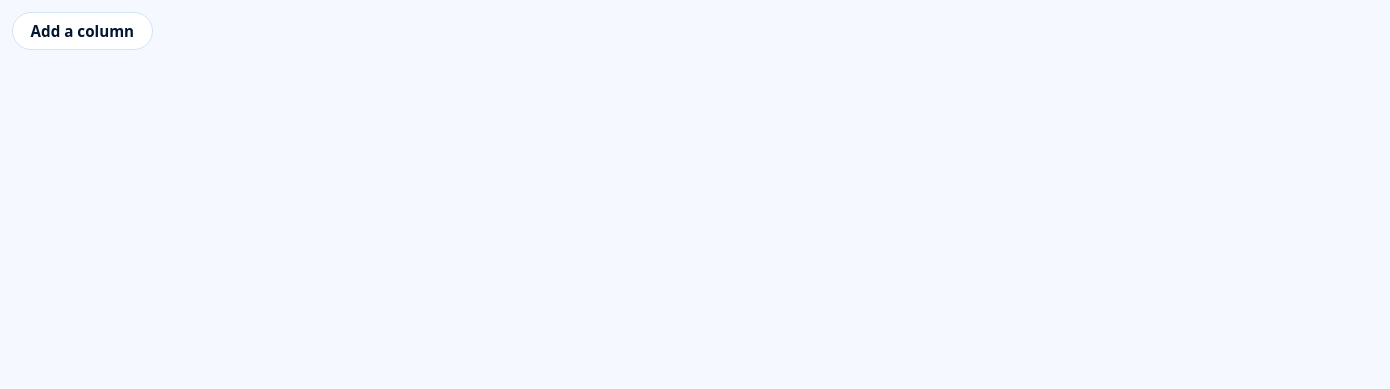
Test case: AddColumnForm › adds a grey column unless another colour is picked, then closes
The width and height of the screenshot is (1390, 389).
Click the button "Add a column". click: (82, 31)
box: [12,12,153,50]
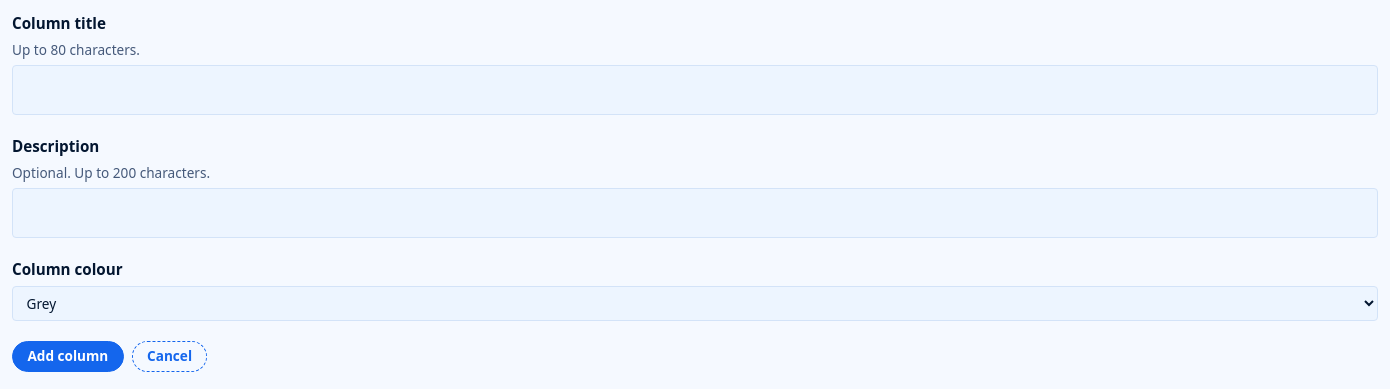
Type "Kudos" into the field labelled "Column title". click: (695, 90)
box: [12,65,1378,115]
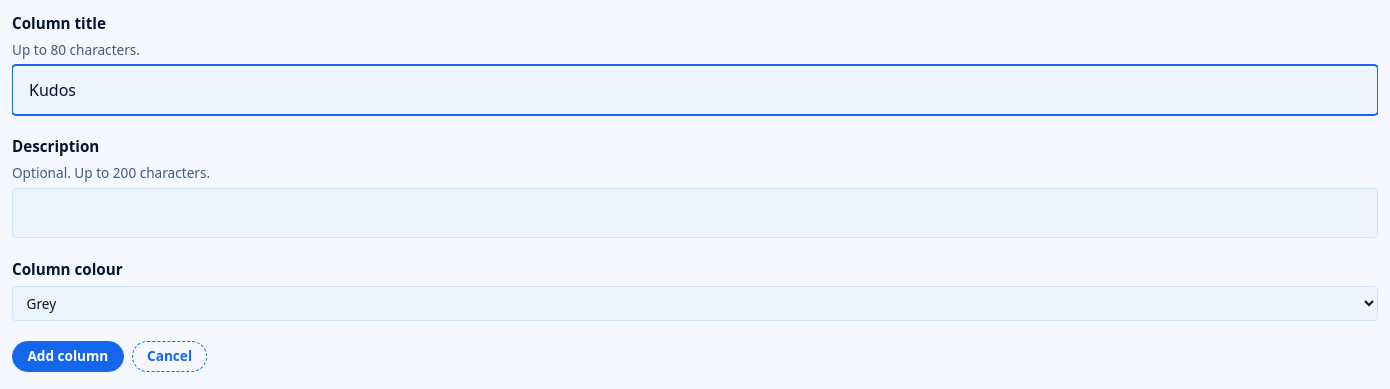
Click the button "Add column". click: (68, 356)
box: [12,341,124,372]
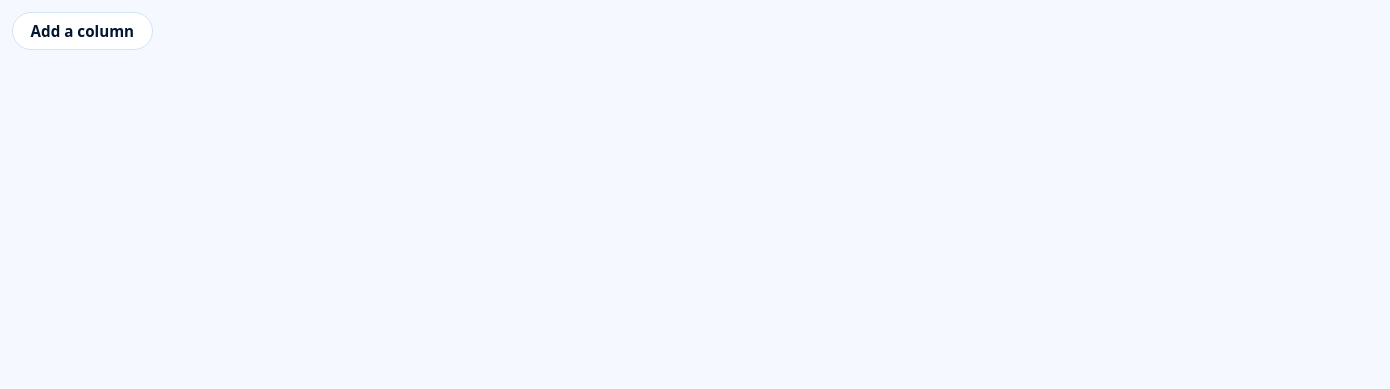
Now the form is gone
